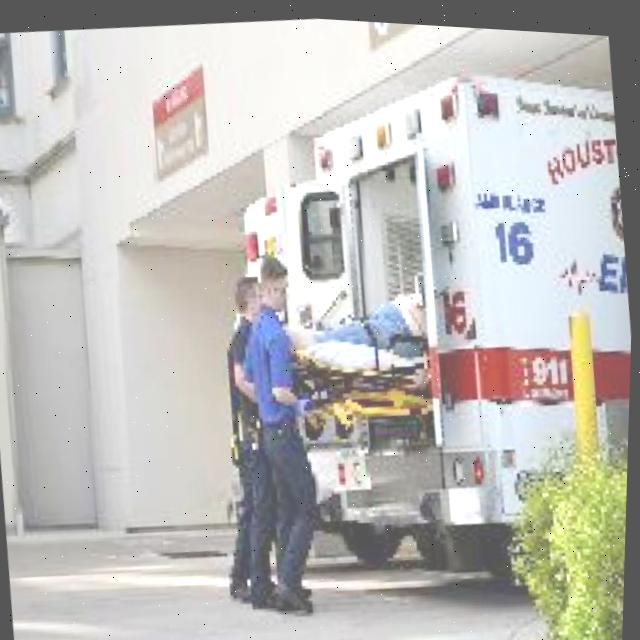emergency: (206, 33, 639, 610)
